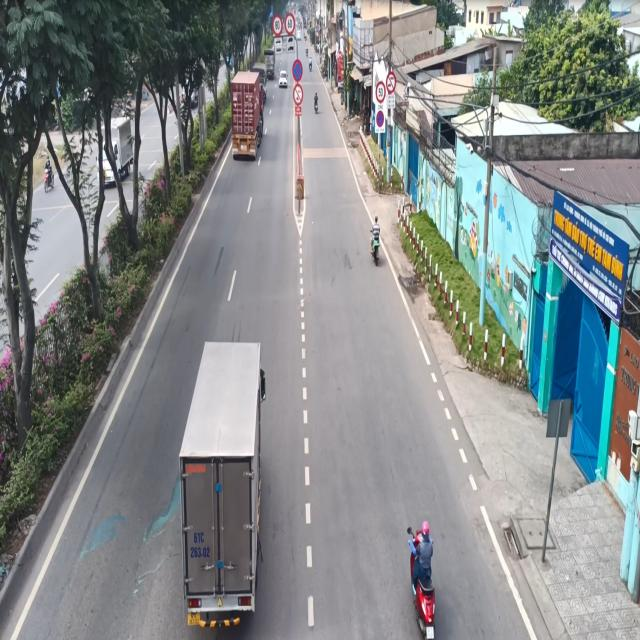motor: (401, 504, 444, 640), (369, 209, 384, 274)
truck: (170, 325, 272, 640), (229, 62, 266, 154)
